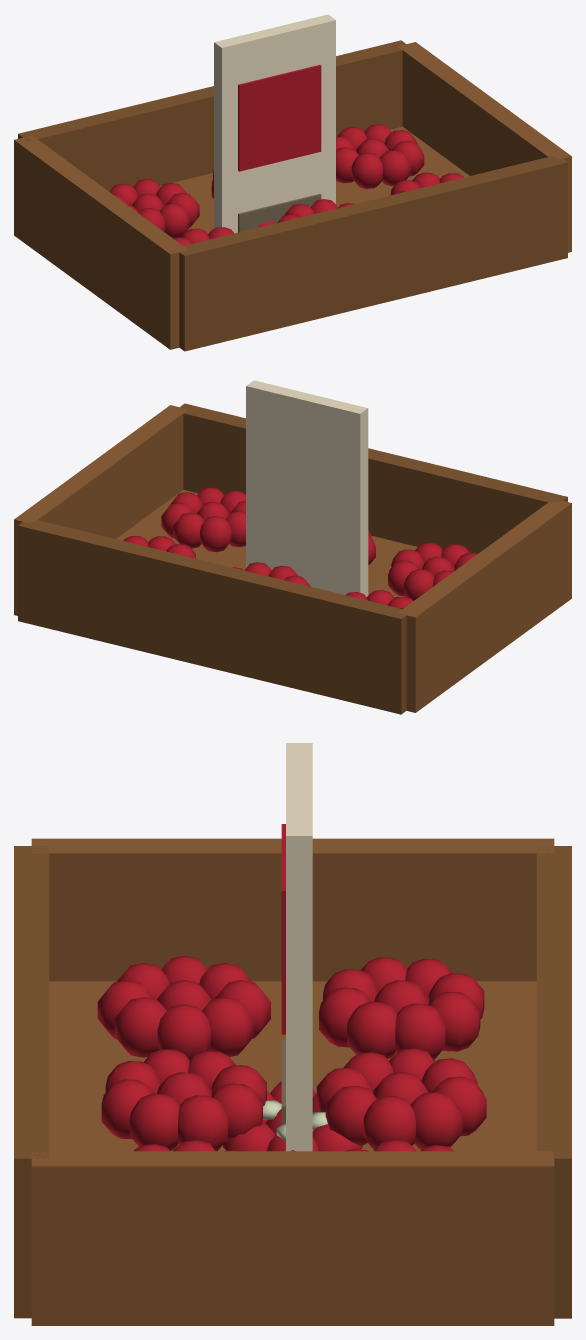
Rendered from Fruit_Cranberry.fbx.
3 views of the same model, one above another, from view 1: azimuth 30°, elevation 25°; view 2: azimuth 150°, elevation 25°; view 3: azimuth 270°, elevation 25° (orthographic). The views are drawn at different scales.
Parts seen in each view (by area): view 1: Fruit_Cranberry__Stack, Fruit_Cranberry__Seed; view 2: Fruit_Cranberry__Stack, Fruit_Cranberry__Seed; view 3: Fruit_Cranberry__Stack, Fruit_Cranberry__Seed, Fruit_Cranberry.
Boxes of the visible parts, x1=… form: Fruit_Cranberry__Stack: x1=14, y1=40, x2=571, y2=351; Fruit_Cranberry__Seed: x1=214, y1=14, x2=335, y2=233; Fruit_Cranberry__Stack: x1=14, y1=403, x2=571, y2=714; Fruit_Cranberry__Seed: x1=246, y1=380, x2=368, y2=596; Fruit_Cranberry__Stack: x1=14, y1=838, x2=571, y2=1325; Fruit_Cranberry__Seed: x1=281, y1=743, x2=312, y2=1151; Fruit_Cranberry: x1=223, y1=1081, x2=362, y2=1151.
Size of the model in its own units: 0.1759 by 0.09 by 0.1266.
